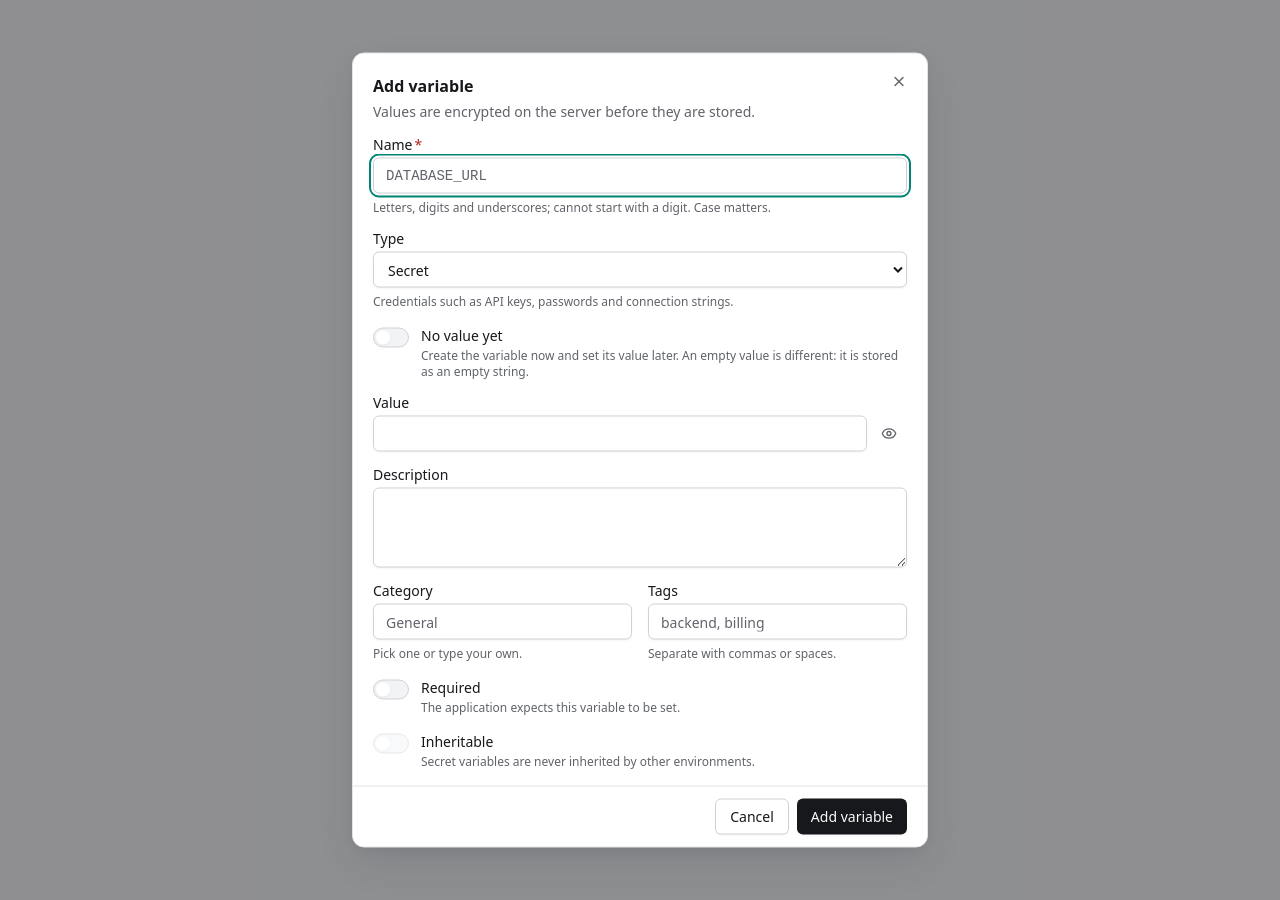
Test: VariableDialog inheritable switch › is disabled for secret variables
This screenshot has width=1280, height=900.
Select "String" in the dropdown labelled "Type" at x=640, y=270, box [373,252,907,288]
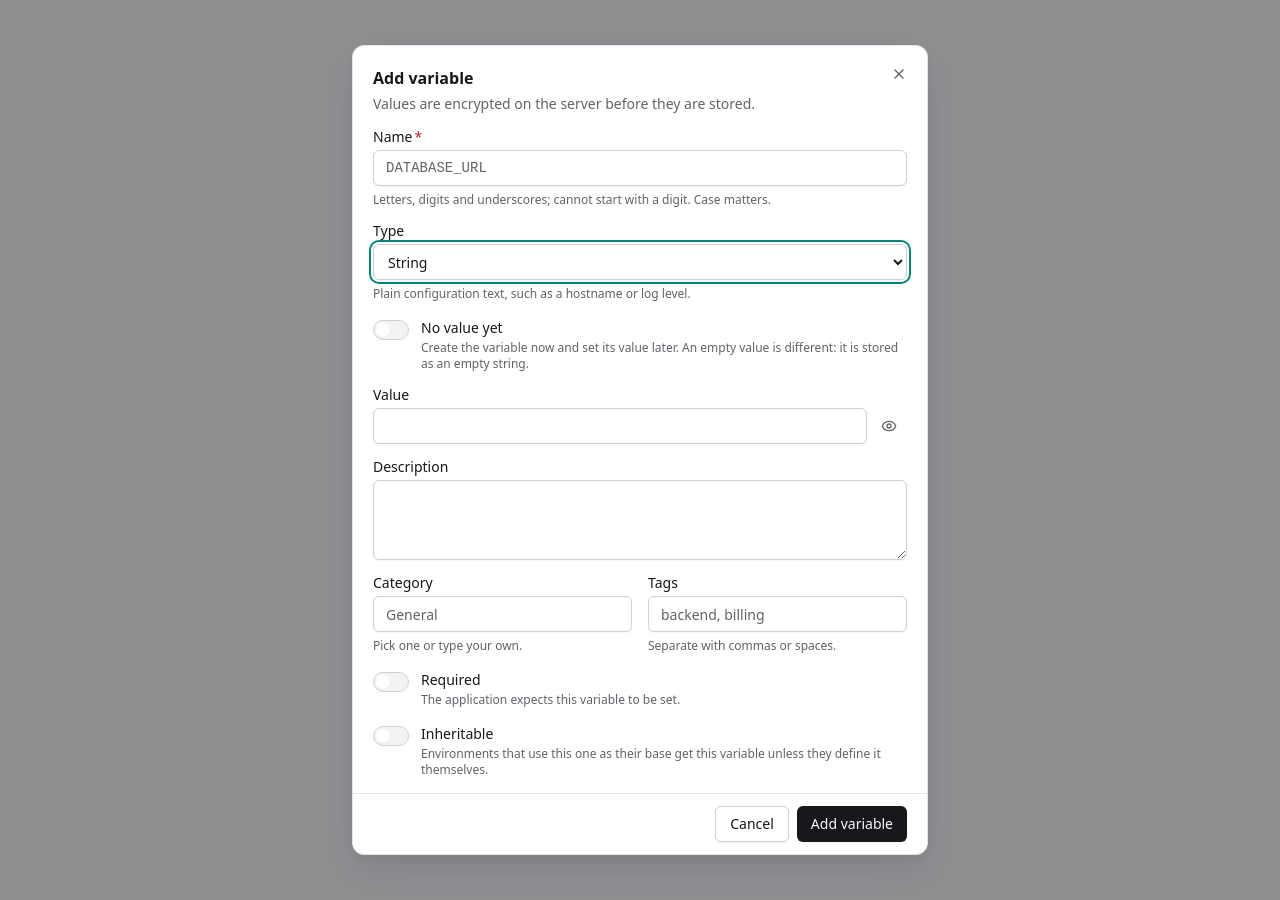
Now the switch named "Inheritable" next to "Inheritable" is enabled, box [373,726,409,746]
